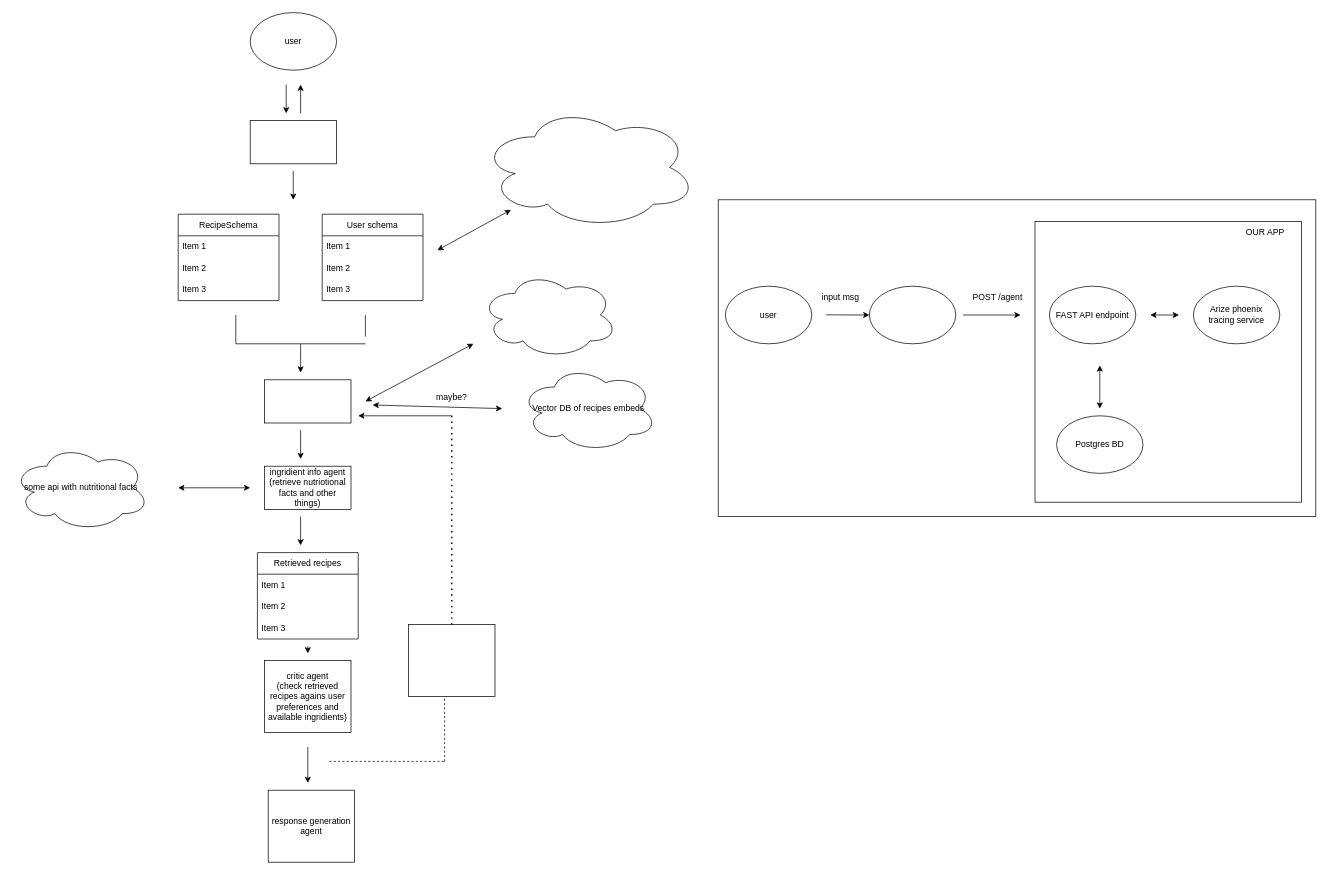
The diagram is 1328 pixels wide and 875 high, and some of its shapes have lost their labels. The centre of each missing label's shape, as x and y in pixels:
Clarification agent (ask user clarification questions): the point at 293,142
Postgress with user schema: the point at 588,167
recipe retriever agent: the point at 307,401
Some API with recipes online: the point at 548,314
STREAMLIT front: the point at 912,314
substitute agent (find new recipes for rejected by critic): the point at 451,660
